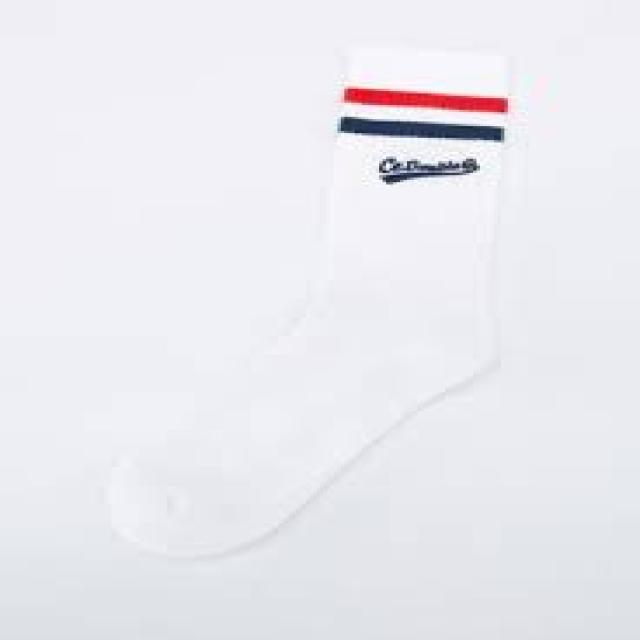sock: (101, 40, 515, 558)
